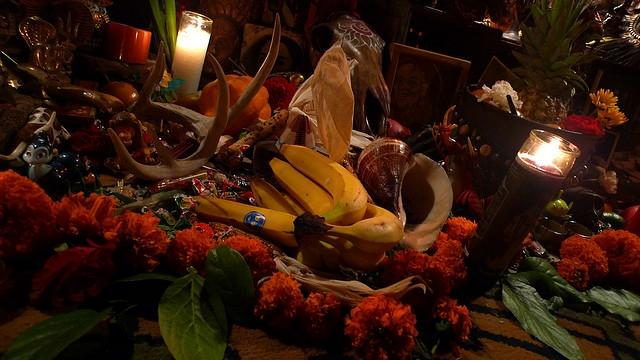banana: (279, 144, 368, 224), (293, 202, 405, 253), (192, 196, 298, 248), (269, 157, 334, 215), (317, 235, 385, 274), (299, 235, 352, 275), (250, 176, 300, 216), (296, 246, 322, 272)
pineapple: (510, 0, 606, 124)
